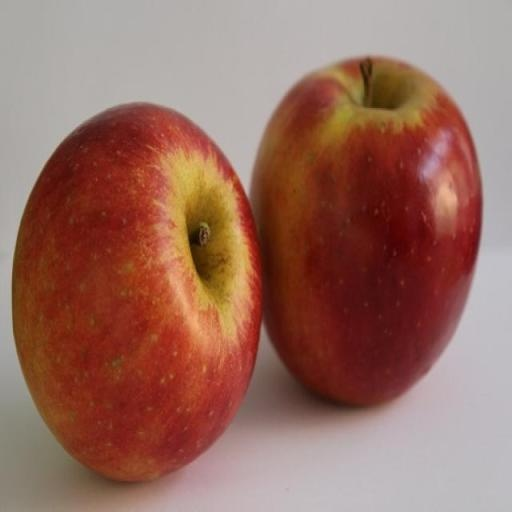fruit: (12, 104, 260, 480), (251, 59, 481, 404)
